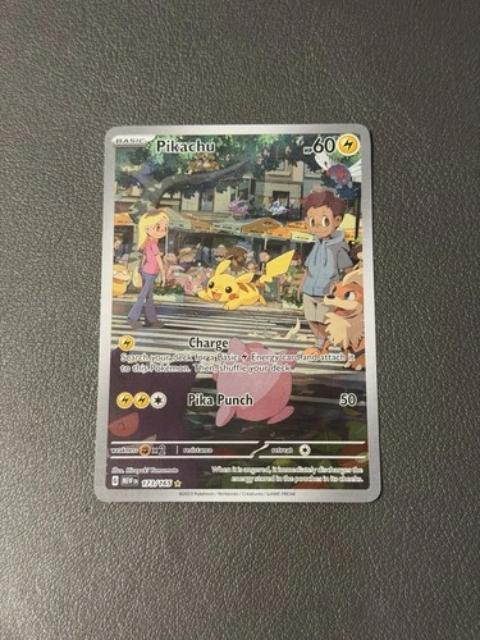Card: (90, 119, 384, 507)
Name: (151, 133, 232, 156)
